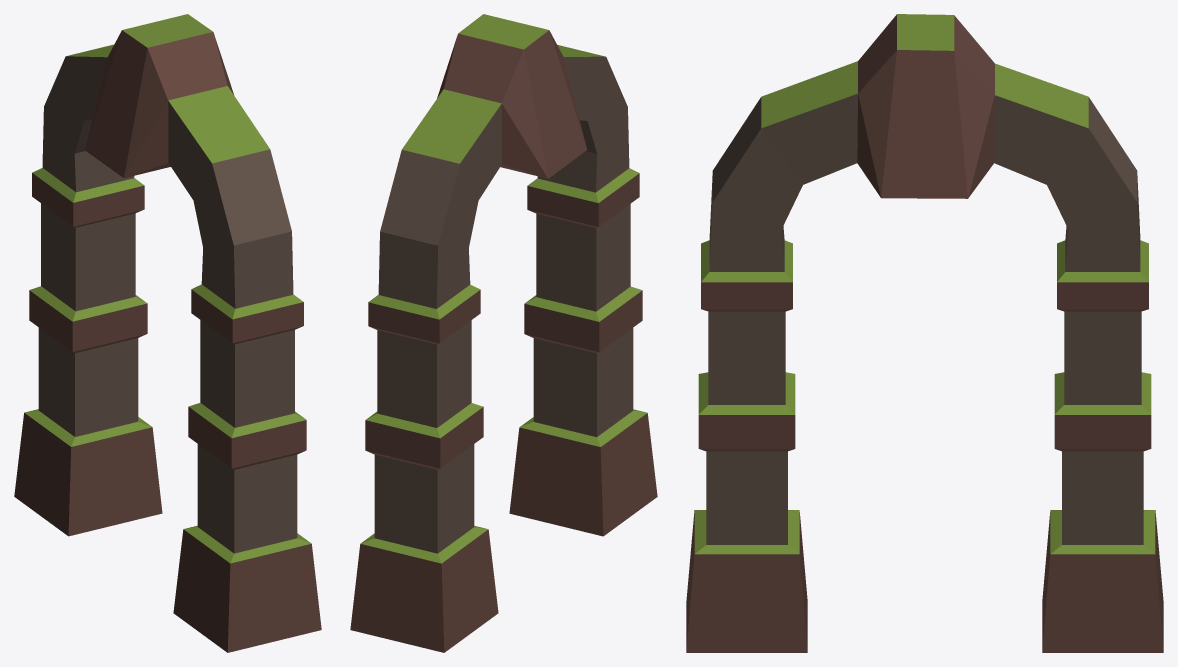
The model's file is RuinGate-A02.fbx.
3 views of the same model, side by side, from view 1: azimuth 30°, elevation 25°; view 2: azimuth 150°, elevation 25°; view 3: azimuth 270°, elevation 25° (orthographic). The views are drawn at different scales.
Parts seen in each view (by area): view 1: RuinGate-A02; view 2: RuinGate-A02; view 3: RuinGate-A02.
Boxes of the visible parts, x1,y1,x2,y2 form: RuinGate-A02: (14,14,321,652); RuinGate-A02: (350,14,657,652); RuinGate-A02: (686,14,1163,652).
Bounding box in the file's own units: 526 × 725 × 181.
